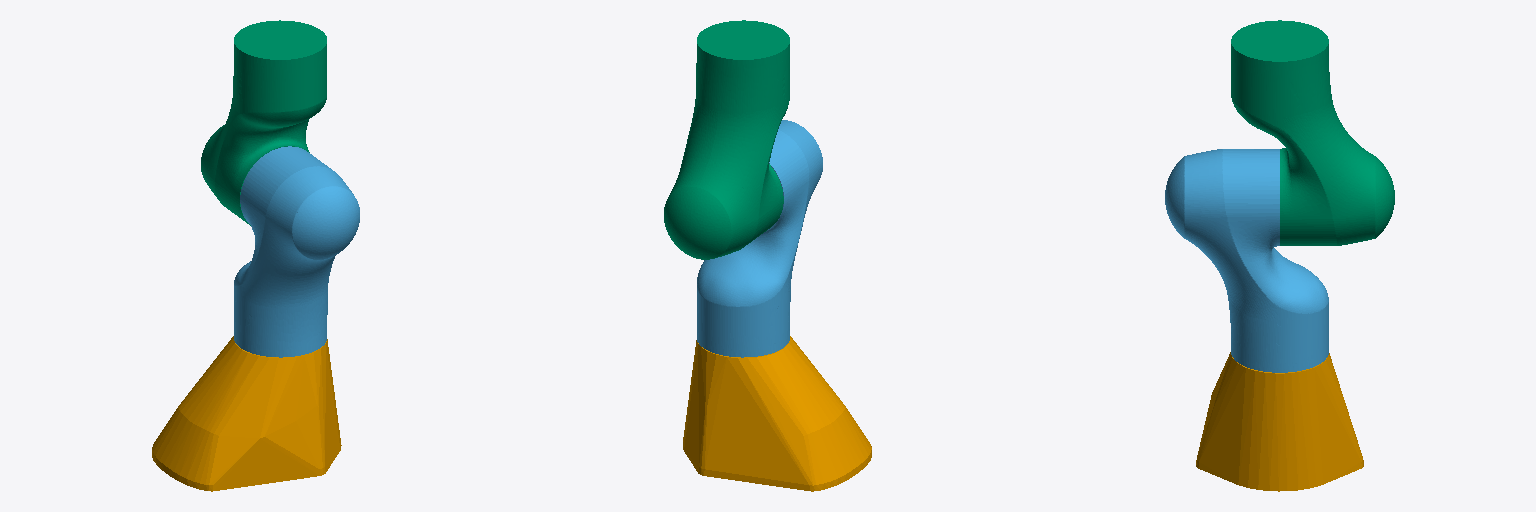
URDF robot description (panda_2link):
<?xml version="1.0" ?>
<robot name="panda_2link">
  <link name="panda_link0">
    <inertial>
      <origin rpy="0 0 0" xyz="0 0 0.05"/>
      <mass value="2.9"/>
      <inertia ixx="0.1" ixy="0" ixz="0" iyy="0.1" iyz="0" izz="0.1"/>
    </inertial>
    <visual>
      <geometry>
        <mesh filename="package://meshes/collision/link0.obj"/>
      </geometry>
    </visual>
    <collision>
      <geometry>
        <mesh filename="package://meshes/collision/link0.obj"/>
      </geometry>
    </collision>
  </link>

  <link name="panda_link1">
    <inertial>
      <origin rpy="0 0 0" xyz="0 -0.04 -0.05"/>
      <mass value="2.7"/>
      <inertia ixx="0.1" ixy="0" ixz="0" iyy="0.1" iyz="0" izz="0.1"/>
    </inertial>
    <visual>
      <geometry>
        <mesh filename="package://meshes/visual/link1.obj"/>
      </geometry>
    </visual>
    <collision>
      <geometry>
        <mesh filename="package://meshes/collision/link1.obj"/>
      </geometry>
    </collision>
  </link>

  <joint name="panda_joint1" type="revolute">
    <origin rpy="0 0 0" xyz="0 0 0.333"/>
    <parent link="panda_link0"/>
    <child link="panda_link1"/>
    <axis xyz="0 0 1"/>
    <limit effort="87" lower="-2.9671" upper="2.9671" velocity="2.1750"/>
  </joint>

  <link name="panda_link2">
    <inertial>
      <origin rpy="0 0 0" xyz="0 -0.04 0.06"/>
      <mass value="2.73"/>
      <inertia ixx="0.1" ixy="0" ixz="0" iyy="0.1" iyz="0" izz="0.1"/>
    </inertial>
    <visual>
      <geometry>
        <mesh filename="package://meshes/visual/link2.obj"/>
      </geometry>
    </visual>
    <collision>
      <geometry>
        <mesh filename="package://meshes/collision/link2.obj"/>
      </geometry>
    </collision>
  </link>

  <joint name="panda_joint2" type="revolute">
    <origin rpy="-1.57079632679 0 0" xyz="0 0 0"/>
    <parent link="panda_link1"/>
    <child link="panda_link2"/>
    <axis xyz="0 0 1"/>
    <limit effort="87" lower="-1.8326" upper="1.8326" velocity="2.1750"/>
  </joint>
</robot>

--- Facts derived from the render (not from the file) ---
3 views of the same robot in one strip: view 1: azimuth 30°, elevation 25°; view 2: azimuth 150°, elevation 25°; view 3: azimuth 270°, elevation 25° (orthographic).
Model panda_2link with 3 links and 2 joints (2 revolute), rooted at panda_link0, posed all joints at 0.
Visible links, largest first — view 1: panda_link0, panda_link1, panda_link2; view 2: panda_link2, panda_link0, panda_link1; view 3: panda_link2, panda_link1, panda_link0.
Link boxes in pixels (<box>): panda_link0: <box>152,336,341,491</box>; panda_link1: <box>234,146,359,357</box>; panda_link2: <box>201,20,326,225</box>; panda_link2: <box>664,20,789,259</box>; panda_link0: <box>683,336,871,491</box>; panda_link1: <box>697,120,822,357</box>; panda_link2: <box>1231,20,1394,245</box>; panda_link1: <box>1165,149,1328,372</box>; panda_link0: <box>1196,352,1363,491</box>.
Bounding box of the posed robot: 0.2256 × 0.2588 × 0.527 m (x, y, z).
Meshes: 3 distinct files referenced, 3 mesh visuals loaded (3 OBJ).
